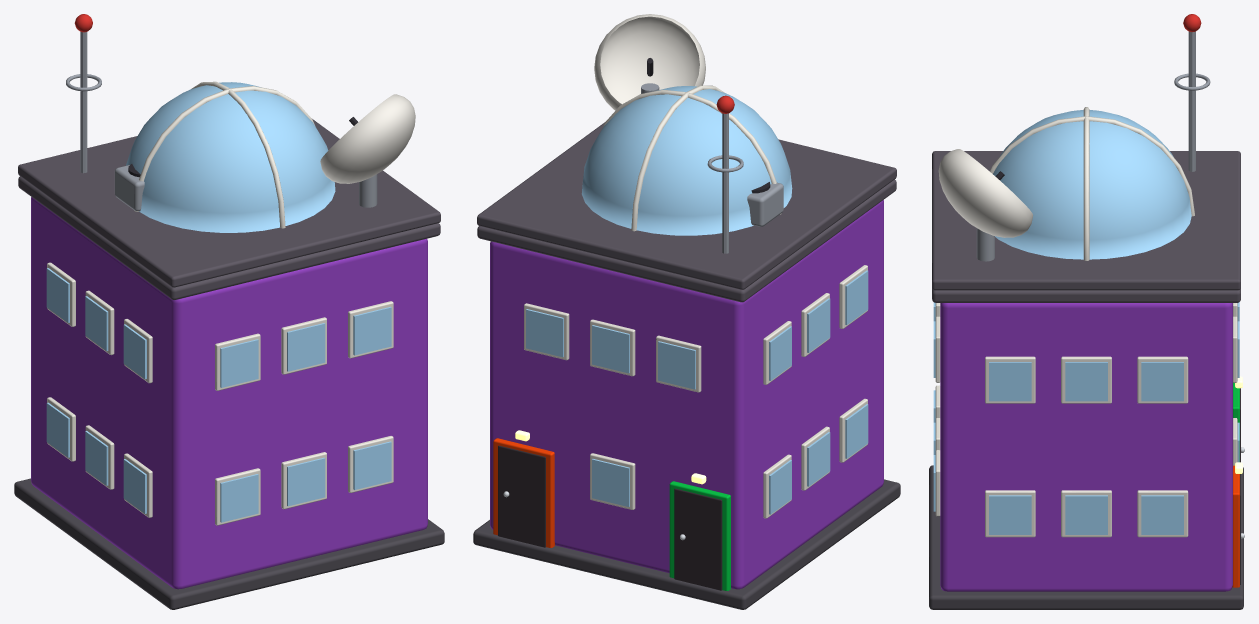
File: building_research_center_t2.glb
3 views of the same model, side by side, from view 1: azimuth 30°, elevation 25°; view 2: azimuth 150°, elevation 25°; view 3: azimuth 270°, elevation 25° (orthographic).
Visible parts, largest first — view 1: Walls, Dome, Roof.Parapet, Plinth, Roof.Slab, Dish.Dish, WinB0.Pane, WinB0.Pane.001, WinB1.Pane, WinB1.Pane.001, WinB1.Pane.002, WinB0.Pane.002 (+16 smaller); view 2: Walls, Roof.Parapet, Dome, Plinth, Dish.Dish, Roof.Slab, Entry.Leaf, Exit.Leaf, Entry.Frame, Exit.Frame, Win1.Pane, Win1.Pane.001 (+16 smaller); view 3: Walls, Dome, Roof.Parapet, Plinth, Dish.Dish, Roof.Slab, WinR0.Pane, WinR0.Pane.001, WinR0.Pane.002, WinR1.Pane, WinR1.Pane.001, WinR1.Pane.002 (+11 smaller).
Part boxes in pixels (<box>): Walls: <box>31,197,427,589</box>; Dome: <box>126,82,335,232</box>; Roof.Parapet: <box>18,119,440,287</box>; Plinth: <box>14,478,444,609</box>; Roof.Slab: <box>18,176,440,299</box>; Dish.Dish: <box>320,94,415,183</box>; WinB0.Pane: <box>220,474,258,522</box>; WinB0.Pane.001: <box>287,457,325,506</box>; WinB1.Pane: <box>220,339,258,387</box>; WinB1.Pane.001: <box>287,323,325,371</box>; WinB1.Pane.002: <box>353,306,391,355</box>; WinB0.Pane.002: <box>353,441,391,489</box>; Walls: <box>490,200,883,589</box>; Roof.Parapet: <box>477,122,896,289</box>; Dome: <box>581,86,792,235</box>; Plinth: <box>473,479,900,609</box>; Dish.Dish: <box>594,14,705,110</box>; Roof.Slab: <box>477,179,896,302</box>; Entry.Leaf: <box>674,488,722,590</box>; Exit.Leaf: <box>498,445,545,547</box>; Entry.Frame: <box>669,481,730,590</box>; Exit.Frame: <box>493,438,554,547</box>; Win1.Pane: <box>658,341,695,389</box>; Win1.Pane.001: <box>592,325,629,373</box>; Walls: <box>940,303,1232,591</box>; Dome: <box>993,110,1191,259</box>; Roof.Parapet: <box>932,151,1240,290</box>; Plinth: <box>929,465,1243,609</box>; Dish.Dish: <box>938,149,1033,237</box>; Roof.Slab: <box>932,288,1240,302</box>; WinR0.Pane: <box>989,495,1031,534</box>; WinR0.Pane.001: <box>1065,495,1107,534</box>; WinR0.Pane.002: <box>1141,495,1183,534</box>; WinR1.Pane: <box>989,362,1031,401</box>; WinR1.Pane.001: <box>1065,362,1107,401</box>; WinR1.Pane.002: <box>1141,362,1183,401</box>.
Bounding box in the file's own units: 3.1 × 5.27 × 3.11.
